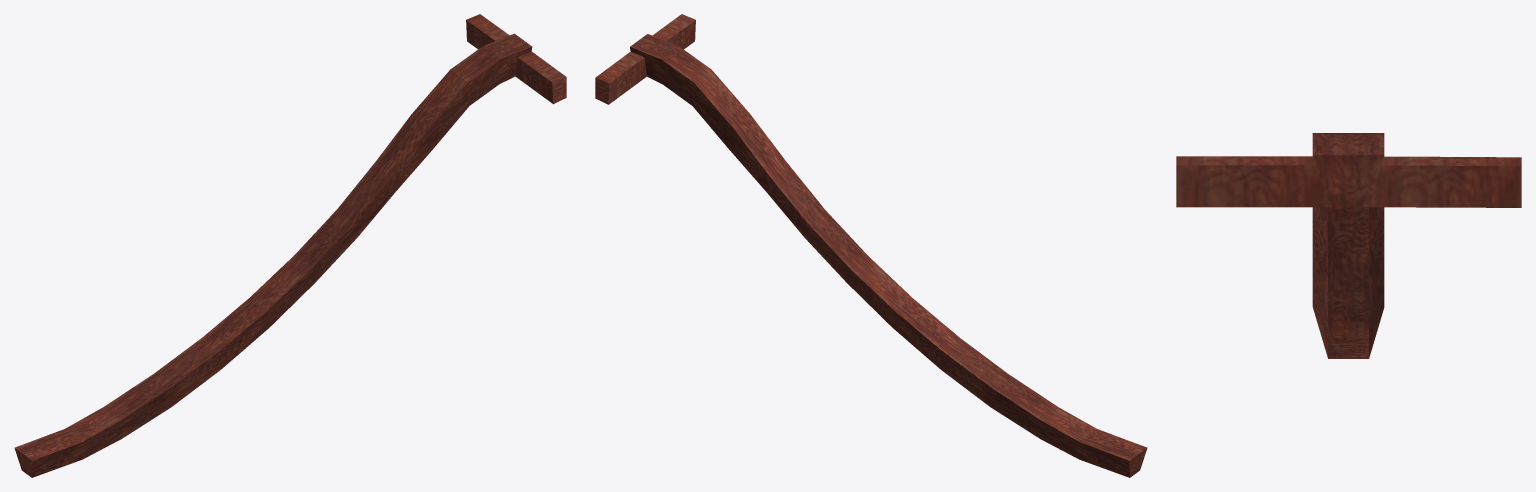
Rendered from corridor_roofBranch.fbx.
3 renders of one model, left to right at view 1: azimuth 30°, elevation 25°; view 2: azimuth 150°, elevation 25°; view 3: azimuth 270°, elevation 25°, orthographic. The views are drawn at different scales.
Visible parts, largest first — view 1: corridor_roofBranch; view 2: corridor_roofBranch; view 3: corridor_roofBranch.
Boxes of the visible parts, bbox=[...] form: corridor_roofBranch: bbox=[14, 14, 566, 477]; corridor_roofBranch: bbox=[595, 14, 1147, 477]; corridor_roofBranch: bbox=[1176, 133, 1521, 358].
Size of the model in its own units: 2.3 by 1.37 by 0.6872.
